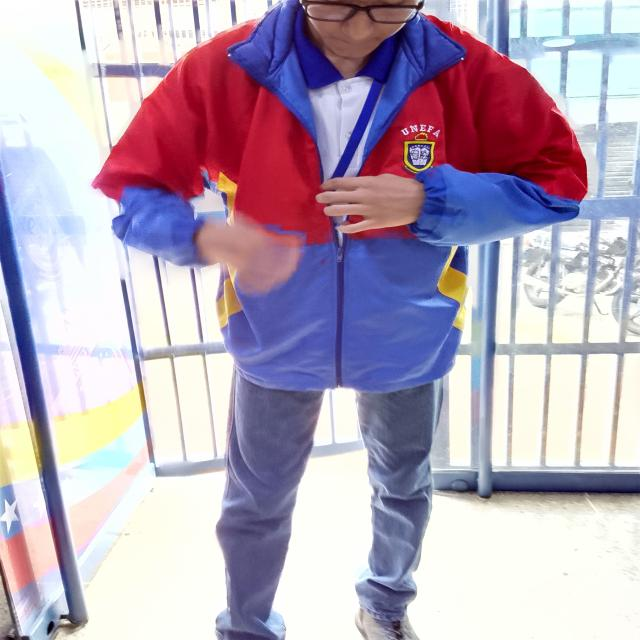chaqueta_unefa: (89, 0, 588, 394)
